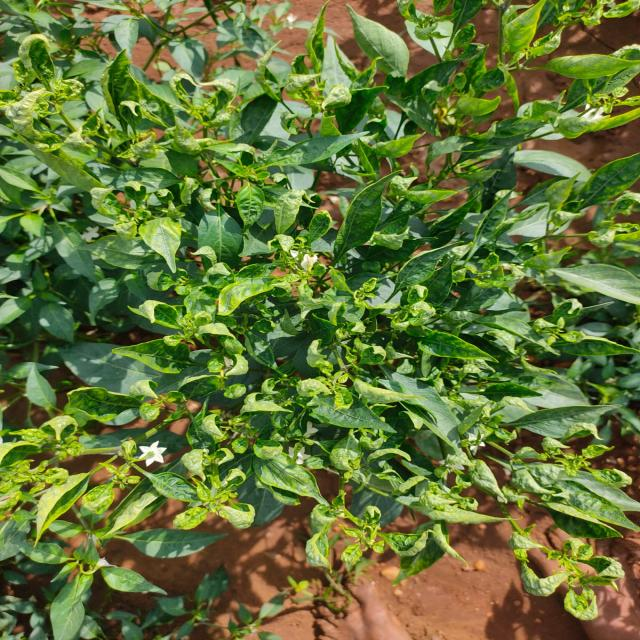Moko: (329, 376, 566, 592), (69, 197, 400, 346), (93, 46, 314, 200), (0, 409, 230, 556), (364, 0, 528, 124), (406, 216, 558, 339), (474, 46, 640, 150), (542, 410, 640, 558), (540, 158, 640, 282), (0, 5, 92, 132), (490, 0, 640, 56)
